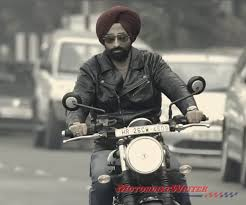helmet: (95, 2, 141, 61)
